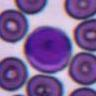L: (24, 26, 72, 74)
